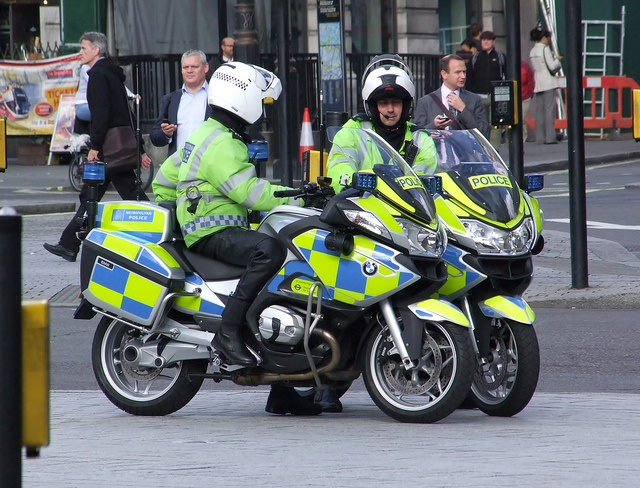non-vehicle: (78, 124, 474, 421), (245, 121, 546, 416)
